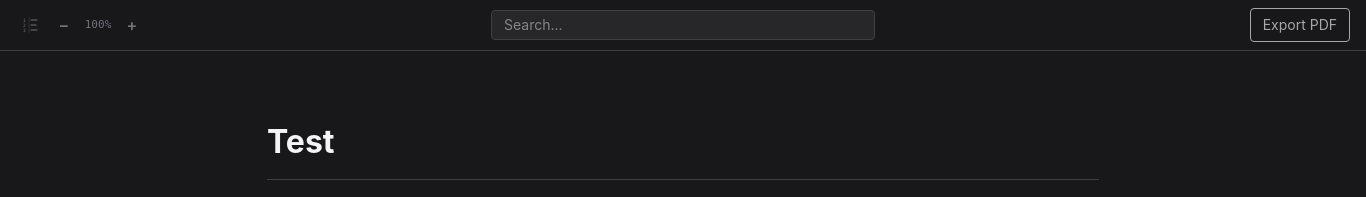
Test: MarkdownViewer › zoom out decreases percentage
The width and height of the screenshot is (1366, 197).
expect the button "100%" is shown: met, box top-left (76, 13), bottom-right (120, 37)
Click the button "−": (64, 25) top-left (52, 13), bottom-right (76, 37)
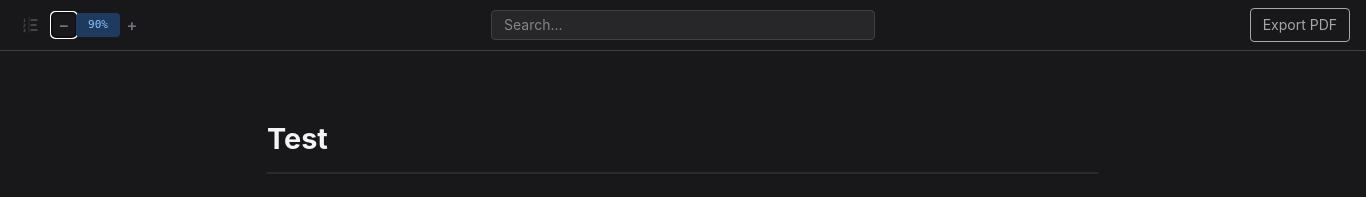
expect the button "90%" is shown: met, box top-left (76, 13), bottom-right (120, 37)
